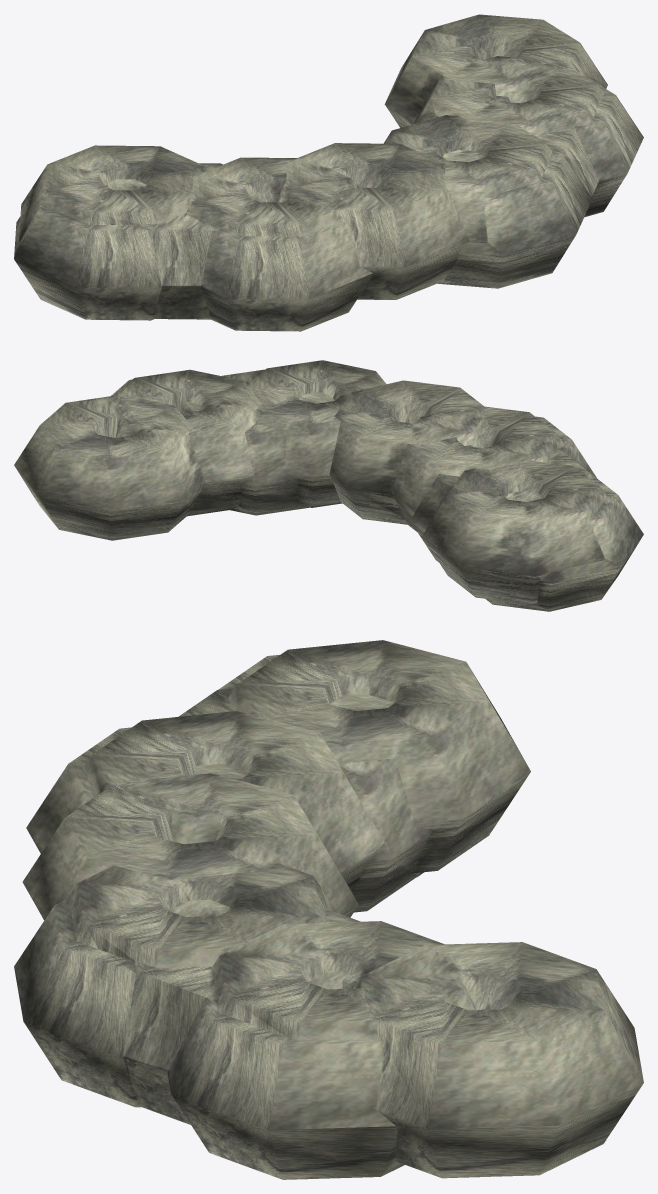
File: hill.gltf
The picture shows the model from 3 angles, top to bottom: view 1: azimuth 30°, elevation 25°; view 2: azimuth 150°, elevation 25°; view 3: azimuth 270°, elevation 25°; orthographic projection. The views are drawn at different scales.
Parts seen in each view (by area): view 1: hill2, hill3; view 2: hill2, hill3; view 3: hill3, hill2.
Boxes of the visible parts, box(x1,y1,x2,y2) form: hill2: box(14, 143, 469, 331); hill3: box(384, 14, 643, 288); hill2: box(329, 380, 643, 611); hill3: box(14, 360, 386, 540); hill3: box(14, 862, 643, 1179); hill2: box(22, 640, 530, 920).
Size of the model in its own units: 666 by 103 by 396.
Materials: 2 (2 with a texture image).
